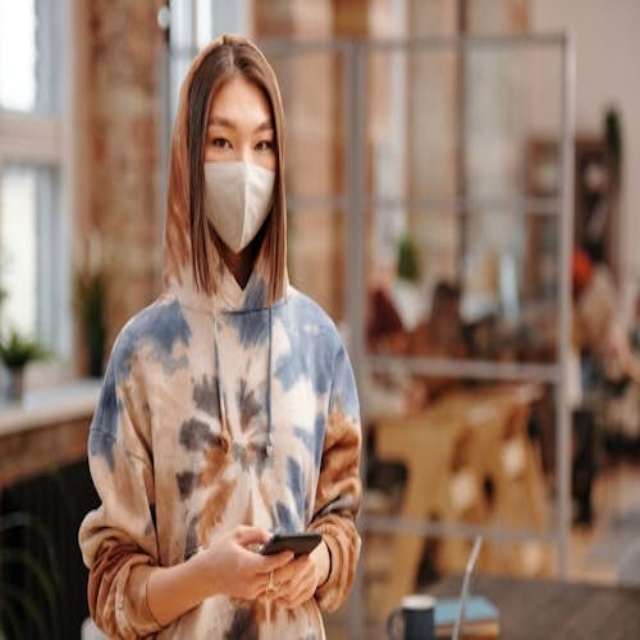Mascara: (202, 156, 275, 252)
Sin_gafas: (206, 110, 279, 161)
Sin_guantes: (193, 517, 287, 611), (251, 536, 324, 612)
